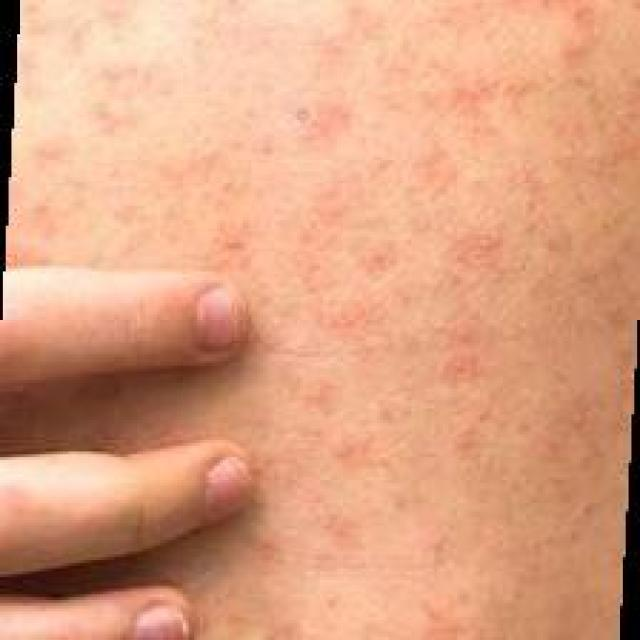others: (28, 9, 622, 640)
